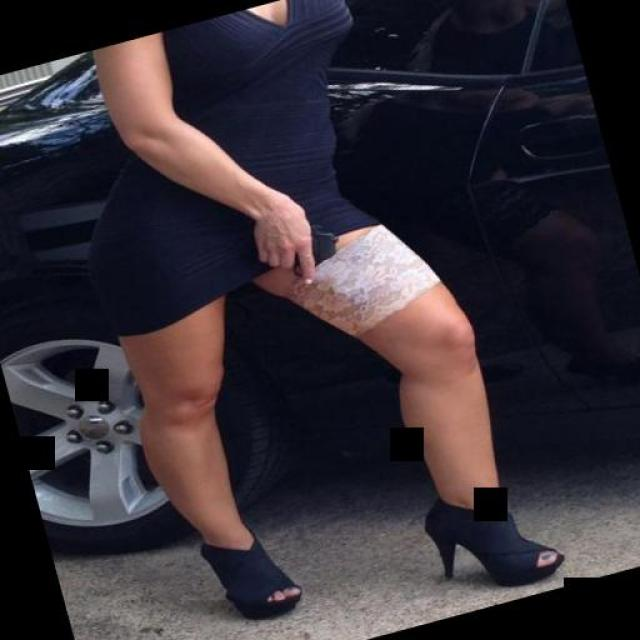gun: (262, 215, 352, 286)
